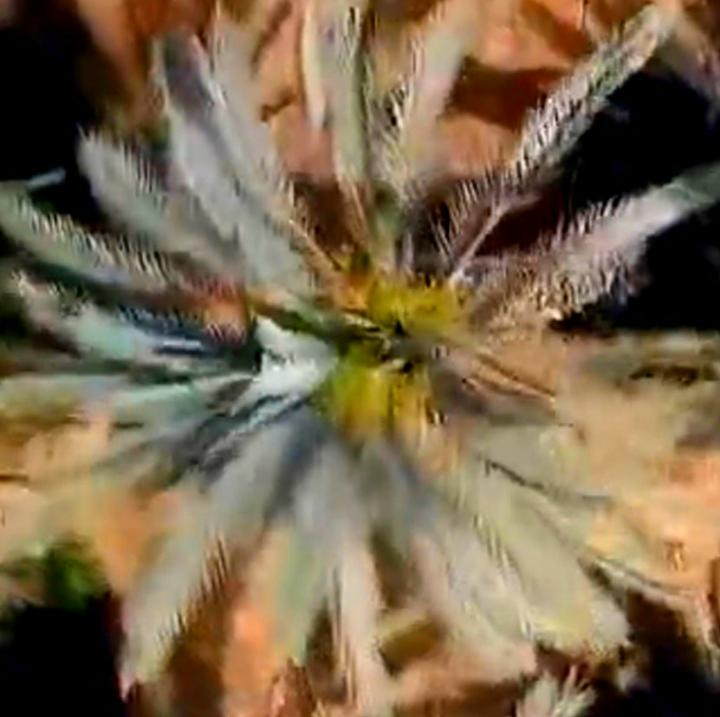Date-Palm-Crown: (198, 153, 591, 527)
